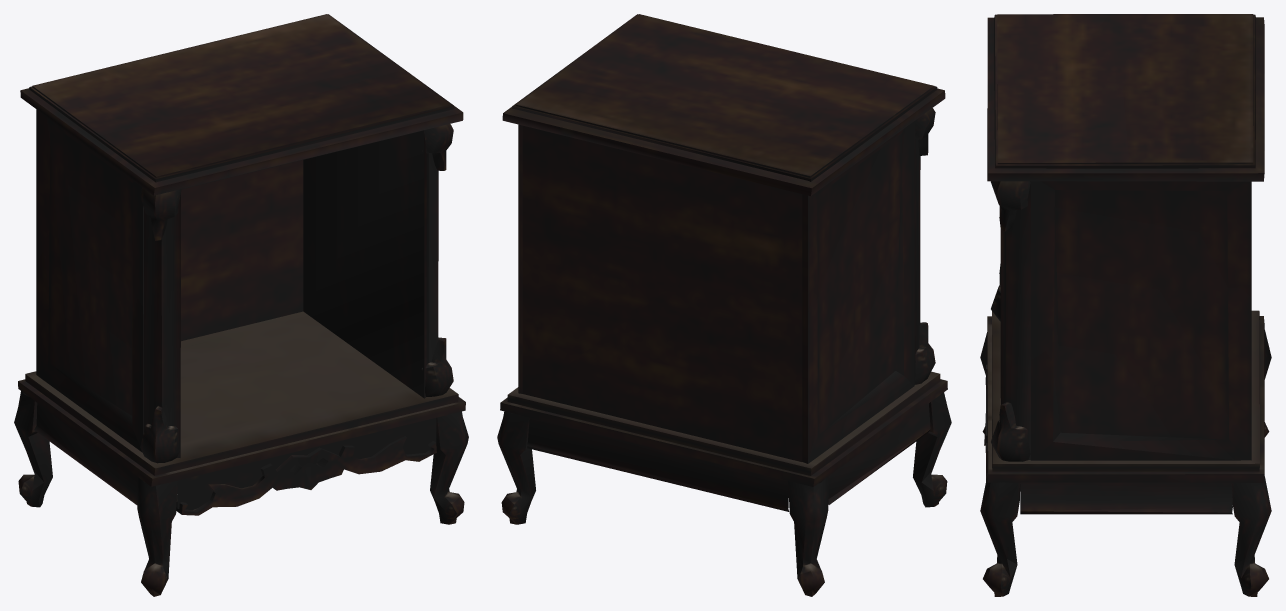
File: ClassicNightstand_01.fbx
3 renders of one model, left to right at view 1: azimuth 30°, elevation 25°; view 2: azimuth 150°, elevation 25°; view 3: azimuth 270°, elevation 25°, orthographic. The views are drawn at different scales.
Parts seen in each view (by area): view 1: ClassicNightstand_01; view 2: ClassicNightstand_01; view 3: ClassicNightstand_01.
Boxes of the visible parts, x1=… form: ClassicNightstand_01: x1=14, y1=14, x2=468, y2=596; ClassicNightstand_01: x1=497, y1=14, x2=951, y2=596; ClassicNightstand_01: x1=980, y1=14, x2=1271, y2=596.
Size of the model in its own units: 0.571 by 0.7 by 0.4274.
